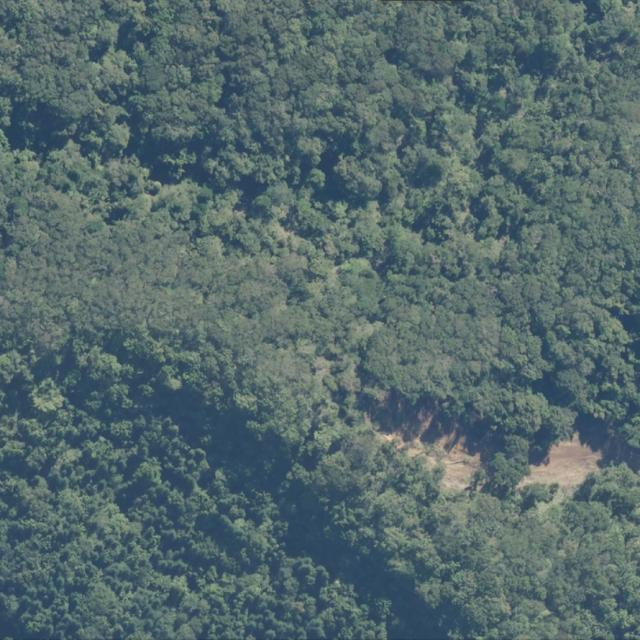landslide: (379, 409, 482, 492), (521, 434, 602, 489)
